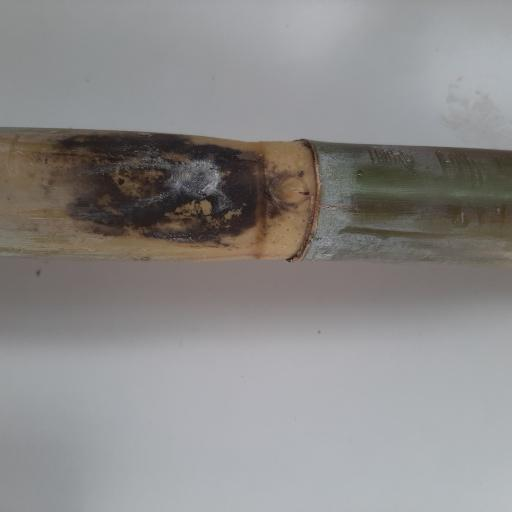Bud: (270, 177, 311, 207)
